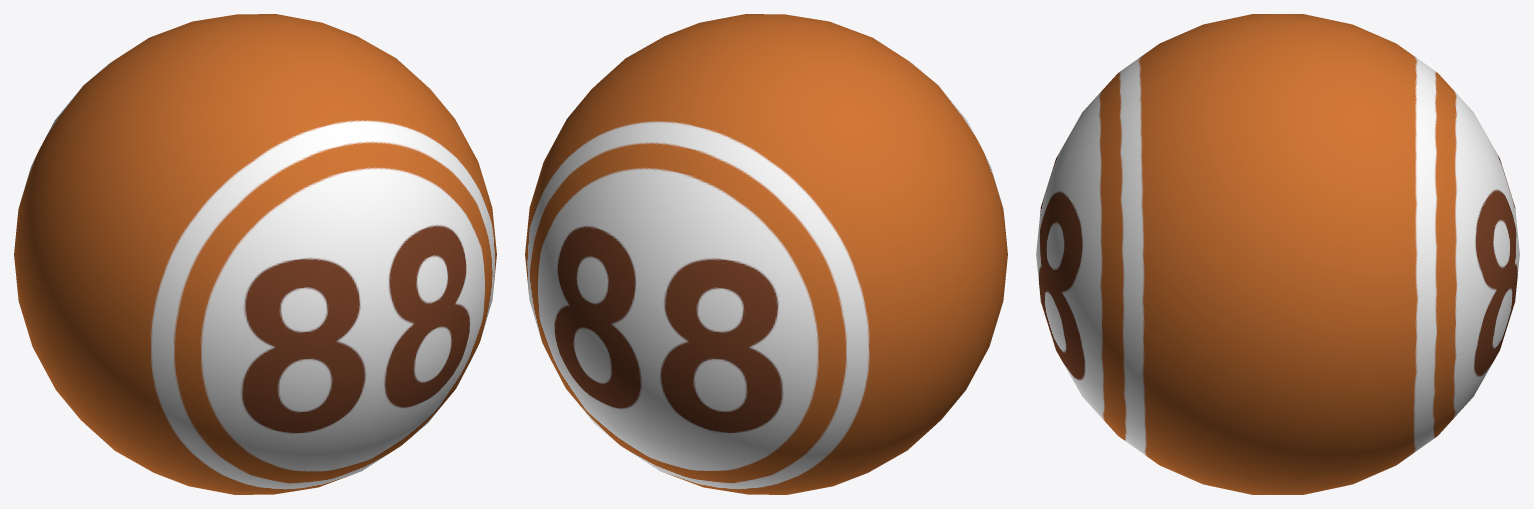
File: bingoBall01.FBX
The picture shows the model from 3 angles, left to right: view 1: azimuth 30°, elevation 25°; view 2: azimuth 150°, elevation 25°; view 3: azimuth 270°, elevation 25°; orthographic projection.
Parts seen in each view (by area): view 1: GeoSphere001; view 2: GeoSphere001; view 3: GeoSphere001.
Boxes of the visible parts, <box> form: GeoSphere001: <box>14,14,496,494</box>; GeoSphere001: <box>525,14,1007,494</box>; GeoSphere001: <box>1036,14,1519,494</box>.
Bounding box in the file's own units: 59.19 × 59.52 × 59.52.
1 material, 1 textured.
